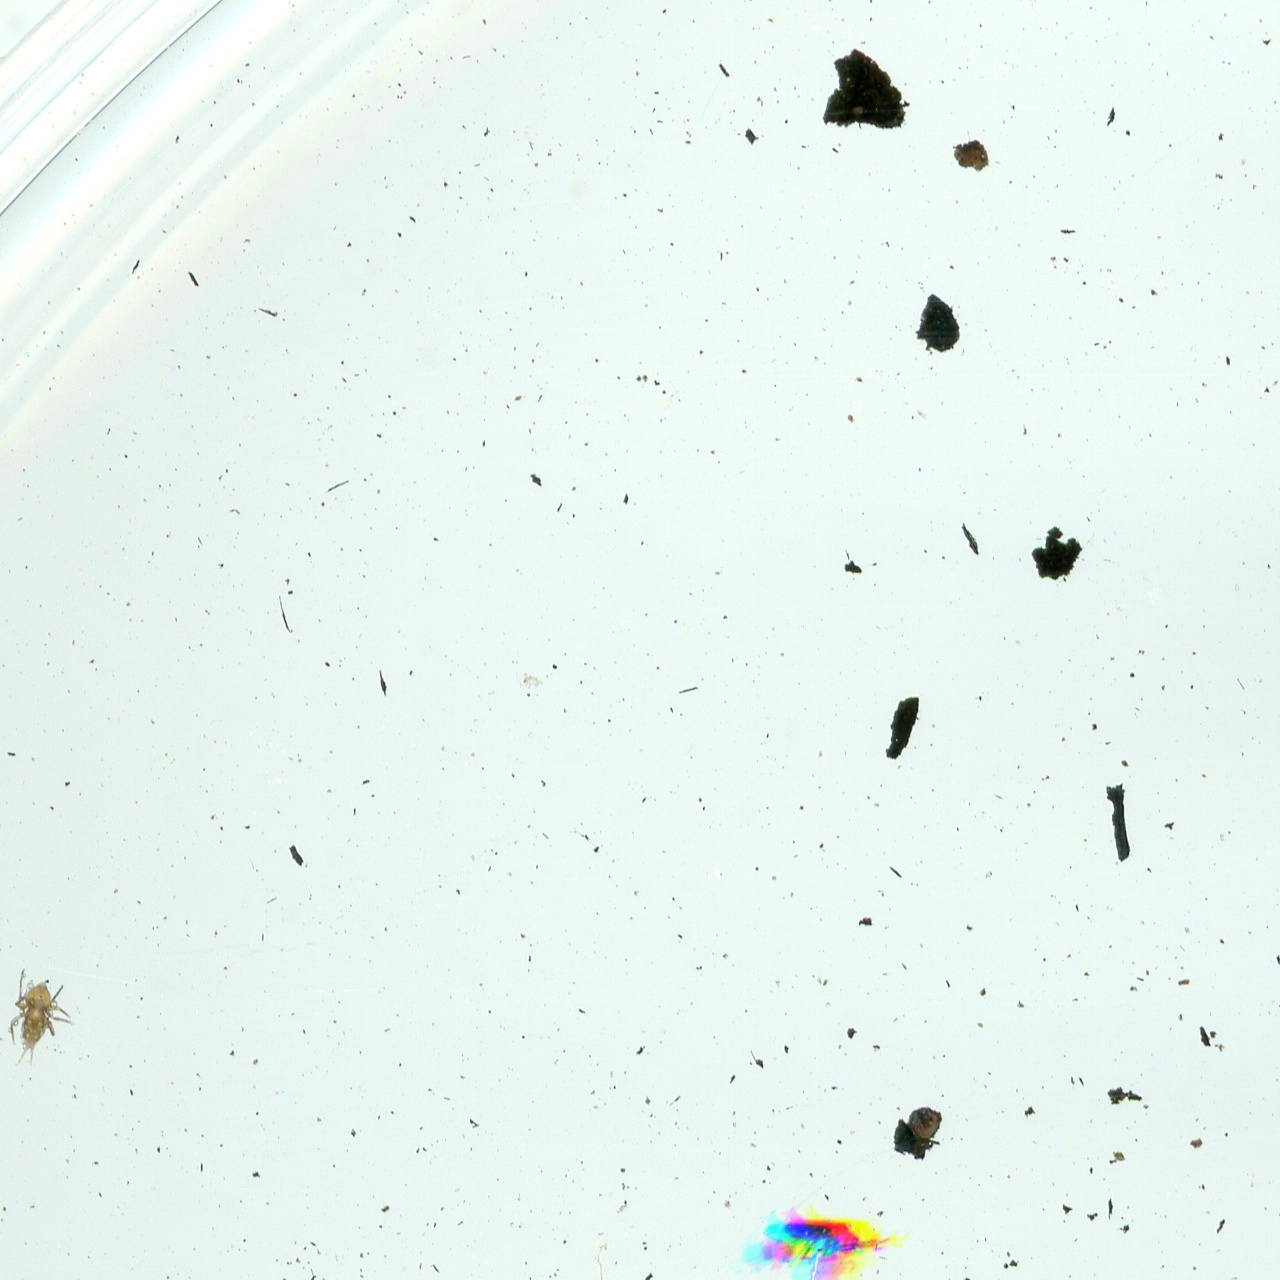arthropod: (735, 1205, 893, 1280), (0, 965, 79, 1072)
